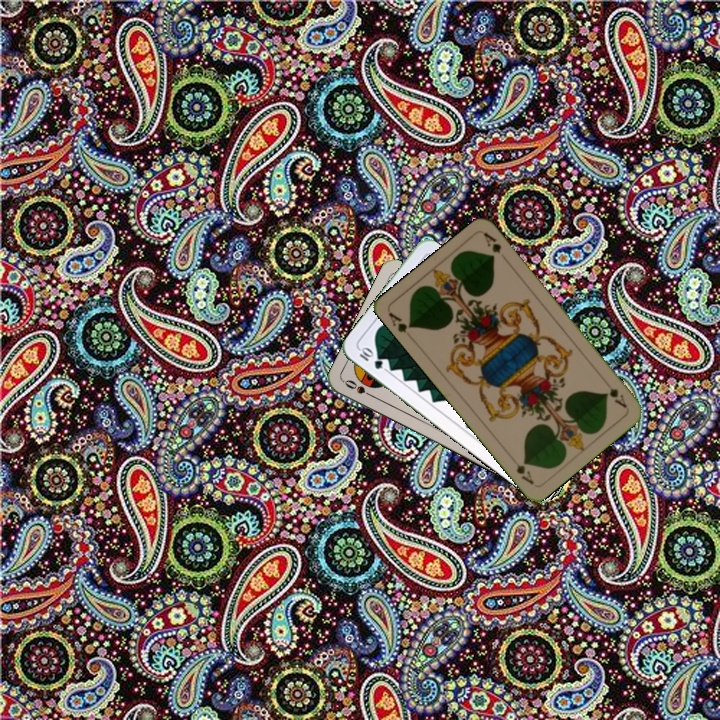G10: (355, 342, 386, 372)
GA: (600, 376, 629, 411), (384, 308, 416, 336)
SO: (340, 375, 378, 401)
